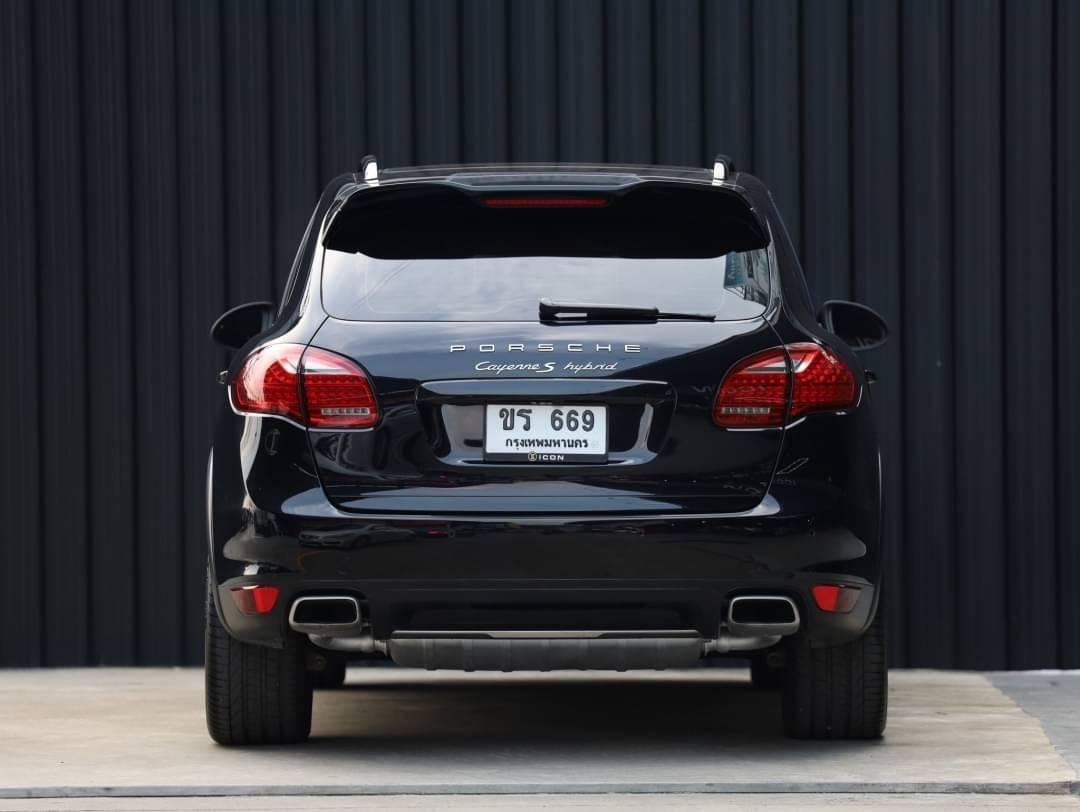license-plate: (483, 399, 609, 467)
